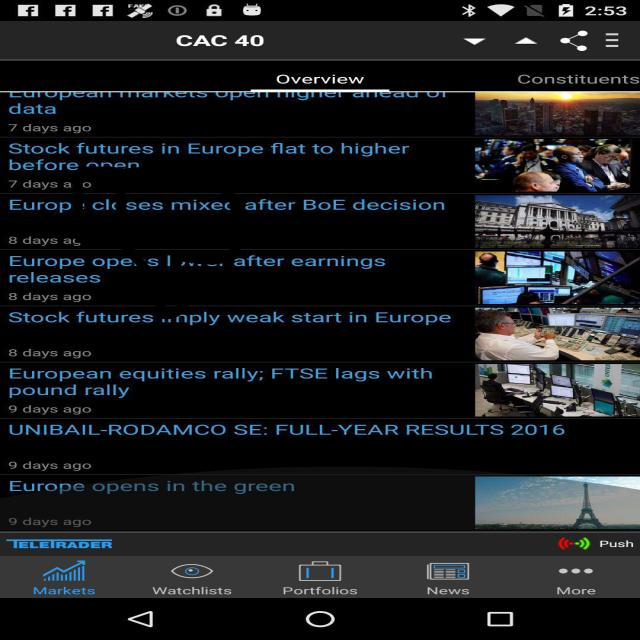obstruction: (70, 166, 246, 320)
